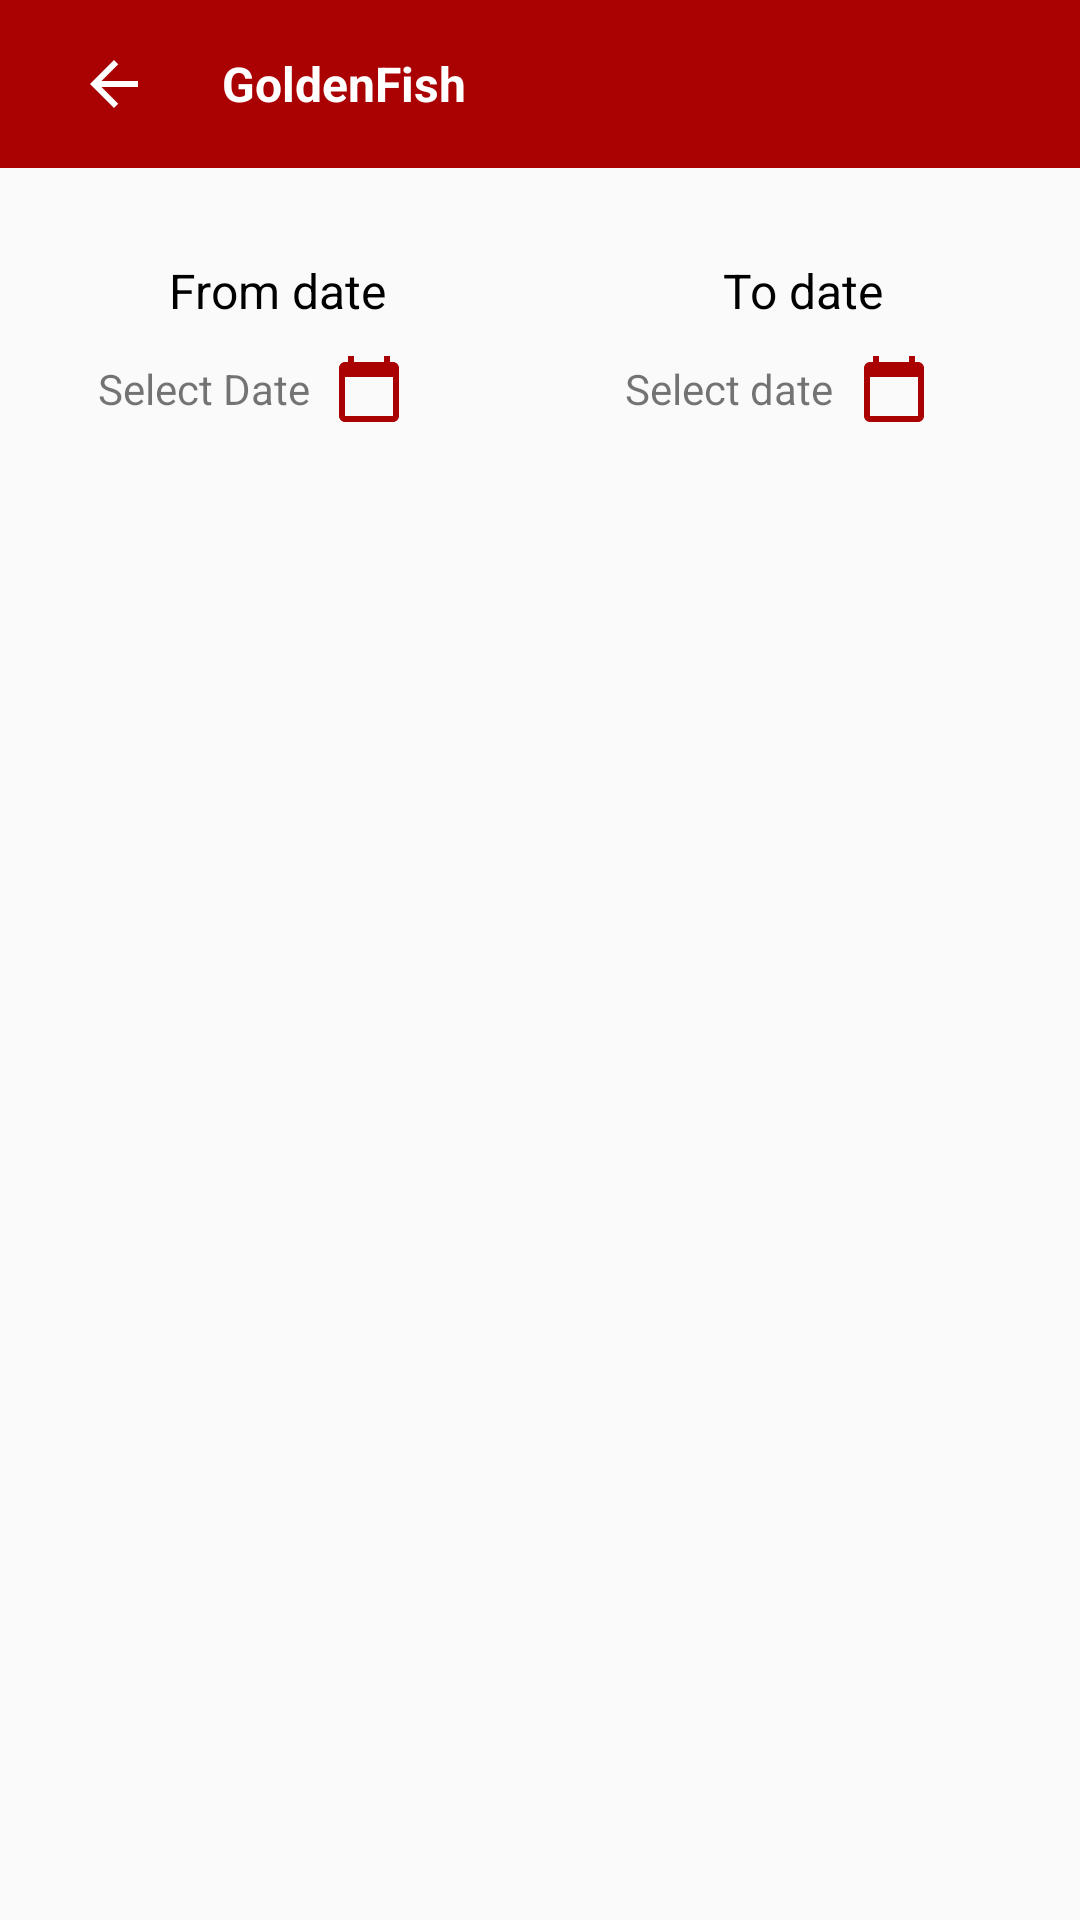

Icon bounding boxes for this 1080w x 1920h phone screenshot, format (x1, y1, x2, y2):
back: (90, 60, 138, 108)
